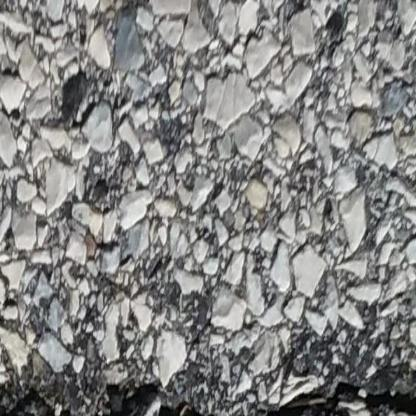Cracks: (0, 374, 416, 416)
